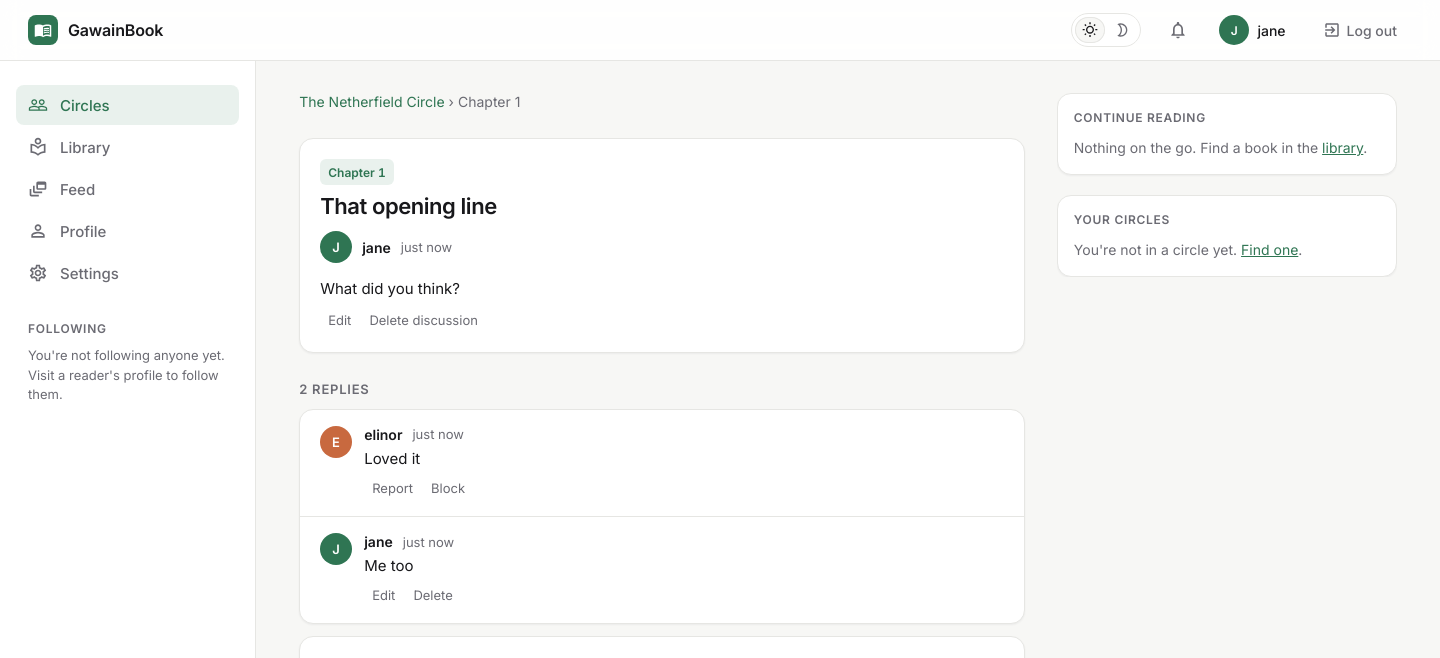
Test: editing › the author edits the discussion title and text
Click the button "Edit" below "What did you think?" at (340, 320), box [320,308,359,332]
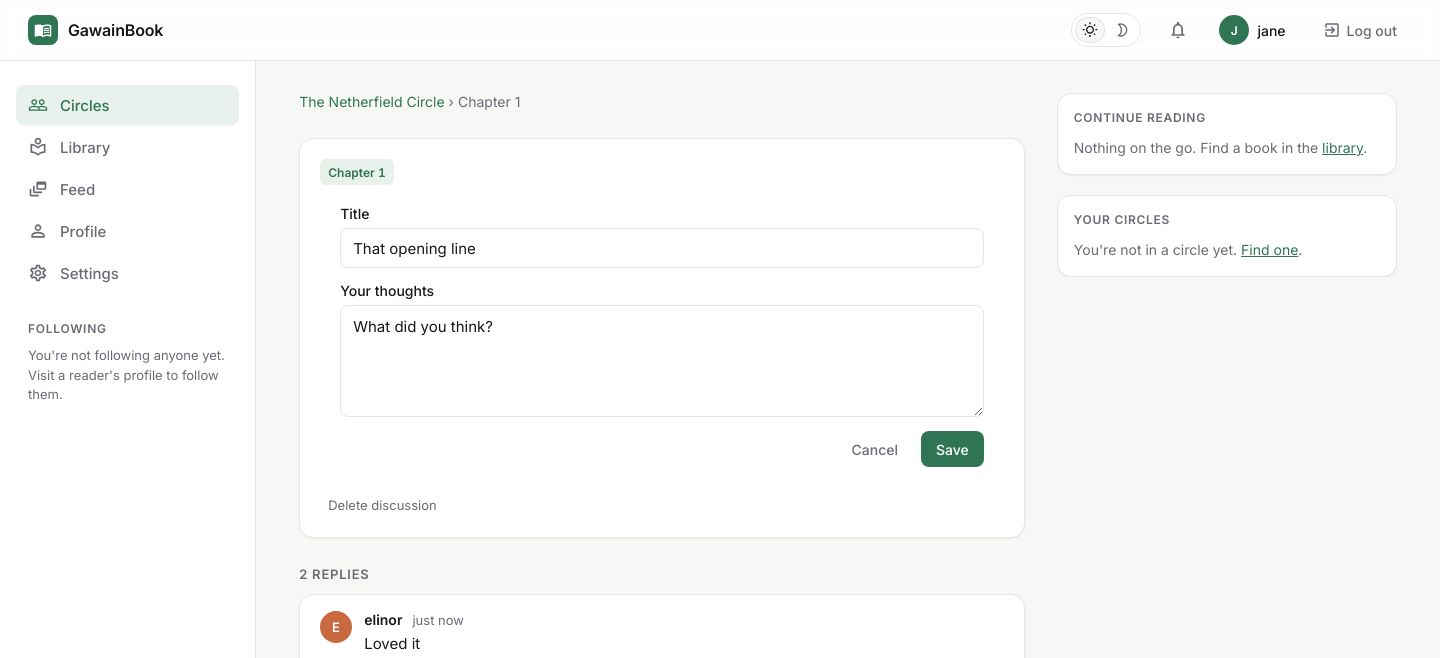
Replace the text in the field labelled "Title" with "Better title" at (662, 248), box [340,228,984,268]
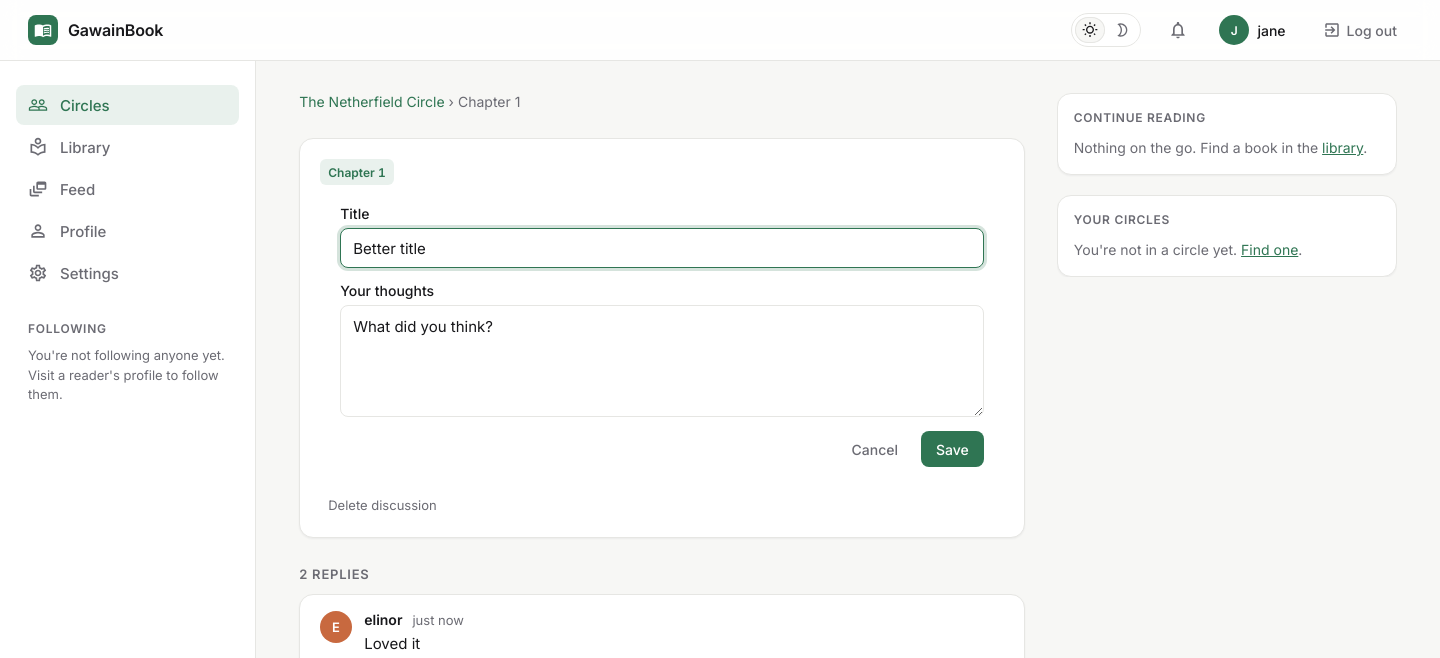
Click the button "Save" at (952, 449), box [921,431,984,467]
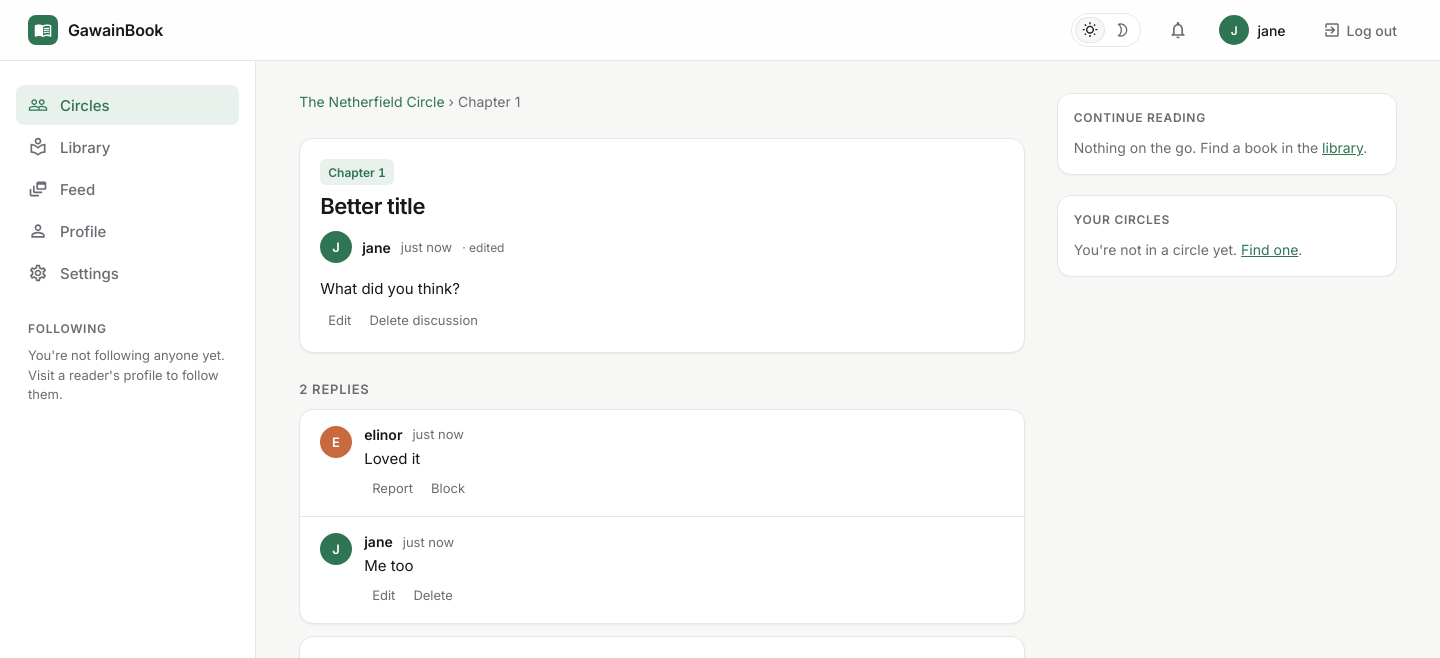
Result: the heading "Better title" is shown at [320,193,425,219]
Result: the text "· edited" is shown at [462,240,504,254]
